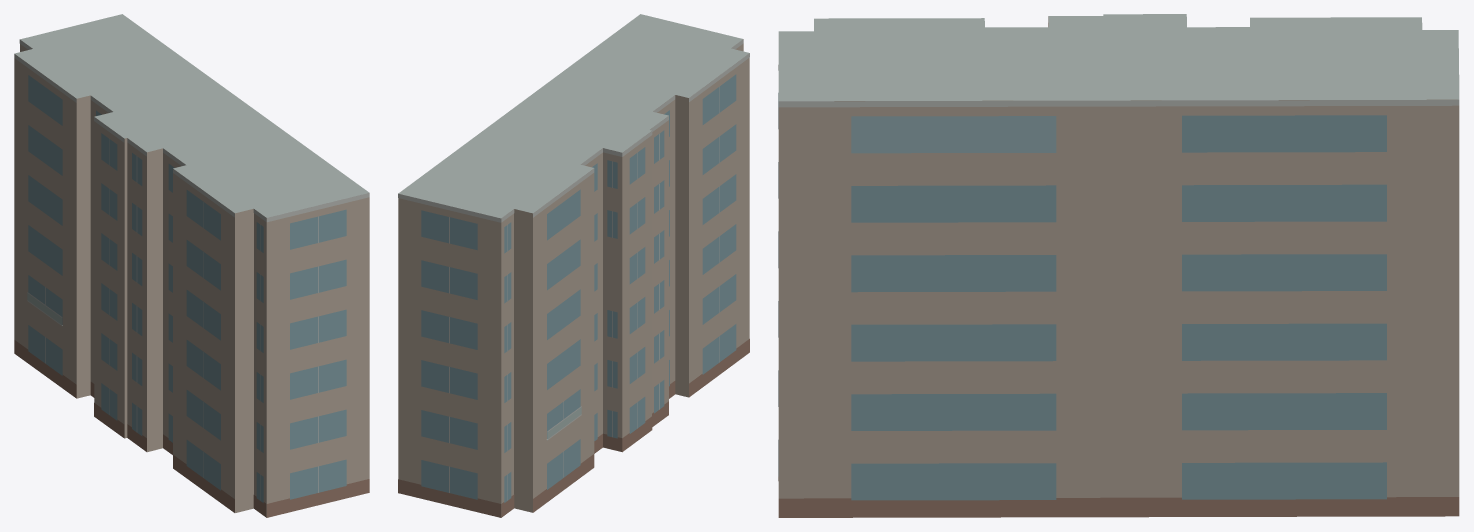
The model's file is survey-upis-33016788.glb.
The picture shows the model from 3 angles, left to right: view 1: azimuth 30°, elevation 25°; view 2: azimuth 150°, elevation 25°; view 3: azimuth 270°, elevation 25°; orthographic projection. The views are drawn at different scales.
Parts seen in each view (by area): view 1: survey-upis-33016788.tmp; view 2: survey-upis-33016788.tmp; view 3: survey-upis-33016788.tmp.
Boxes of the visible parts, x1,y1,x2,y2 form: survey-upis-33016788.tmp: (14, 14, 369, 517); survey-upis-33016788.tmp: (398, 14, 749, 517); survey-upis-33016788.tmp: (778, 14, 1459, 517).
Bounding box in the file's own units: 7.51 × 16.7 × 24.75.
